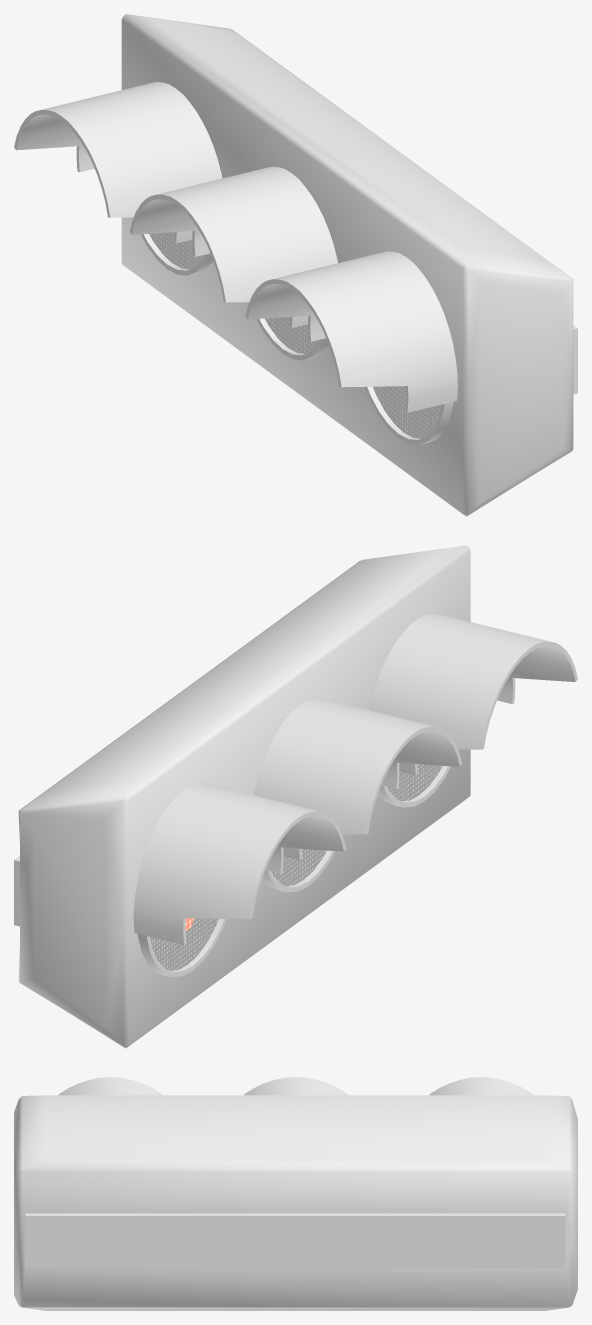
The model's file is 横向右转灯_RedLight.glb.
3 views of the same model, one above another, from view 1: azimuth 30°, elevation 25°; view 2: azimuth 150°, elevation 25°; view 3: azimuth 270°, elevation 25° (orthographic). The views are drawn at different scales.
Visible parts, largest first — view 1: 横向右转灯_RedLight; view 2: 横向右转灯_RedLight; view 3: 横向右转灯_RedLight.
Part boxes in pixels (bbox=[...]): 横向右转灯_RedLight: bbox=[14, 14, 577, 516]; 横向右转灯_RedLight: bbox=[14, 545, 577, 1048]; 横向右转灯_RedLight: bbox=[14, 1077, 577, 1310].
Bounding box in the file's own units: 0.6 × 0.65 × 1.58.
3 materials, 2 textured.
